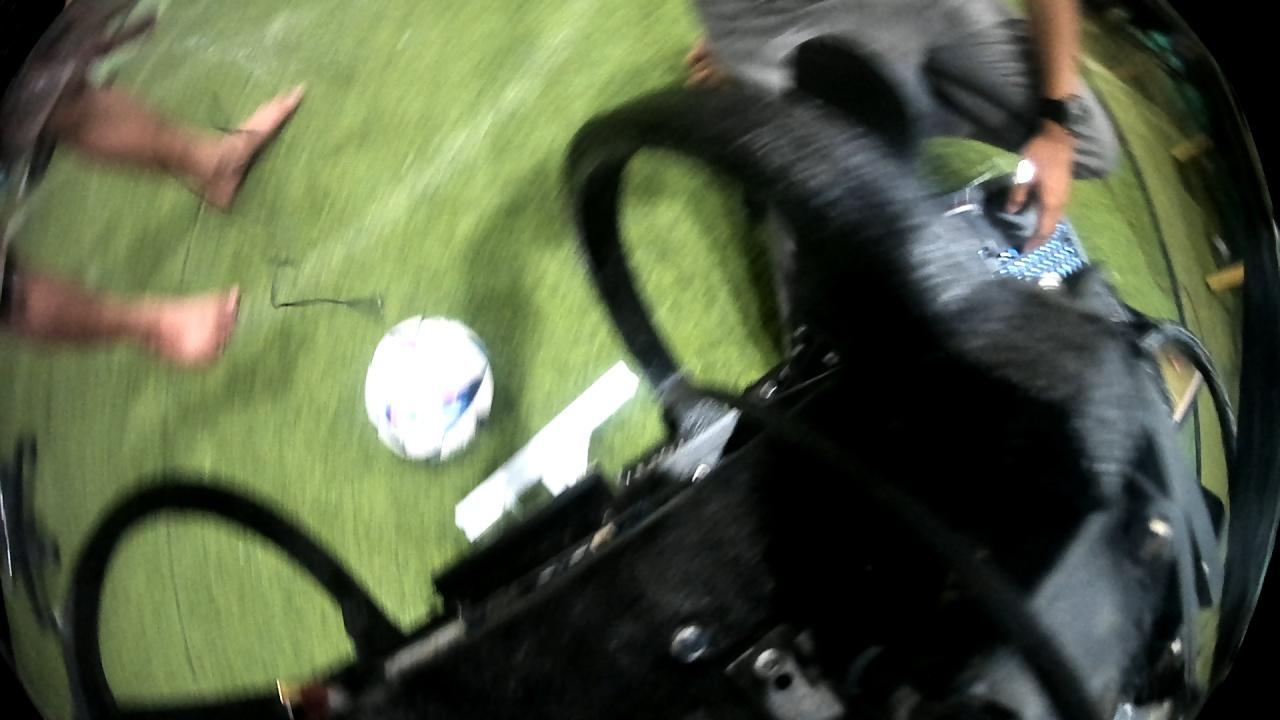ball: (363, 309, 500, 468)
